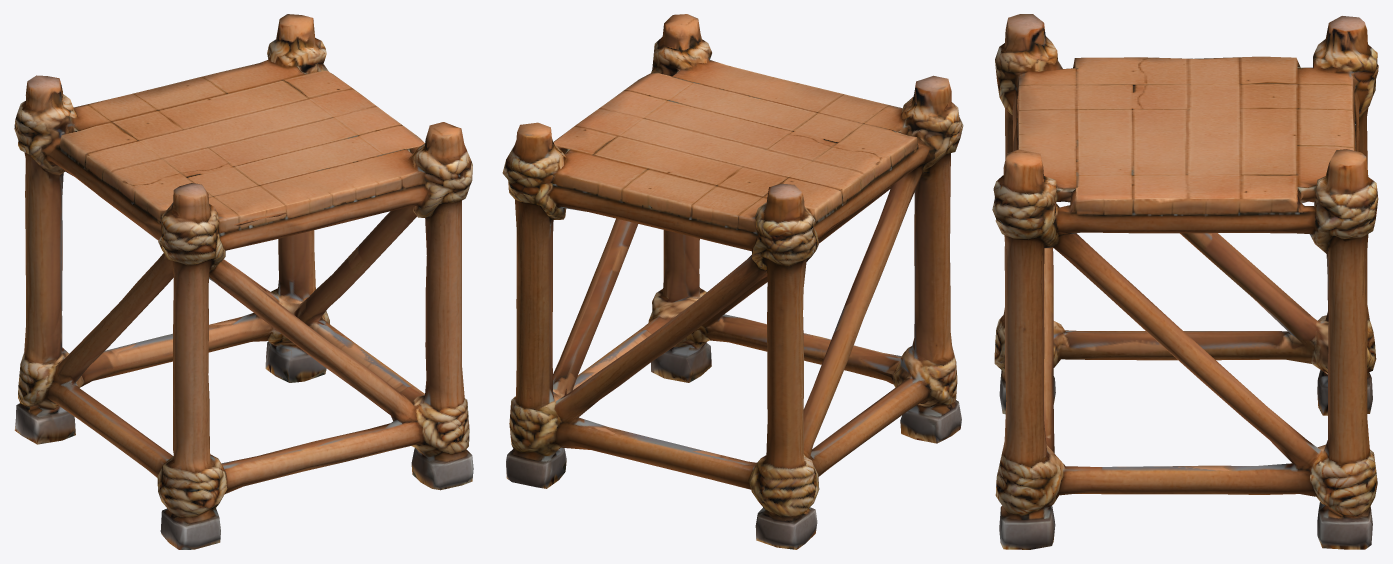
The model's file is Platform.glb.
3 renders of one model, left to right at view 1: azimuth 30°, elevation 25°; view 2: azimuth 150°, elevation 25°; view 3: azimuth 270°, elevation 25°, orthographic. The views are drawn at different scales.
Visible parts, largest first — view 1: input; view 2: input; view 3: input.
Part boxes in pixels (box(x1,y1,x2,y2)): input: box(14, 14, 473, 549); input: box(502, 14, 963, 549); input: box(992, 14, 1378, 549).
Size of the model in its own units: 0.9126 by 1.01 by 0.9174.
1 material, 1 textured.
